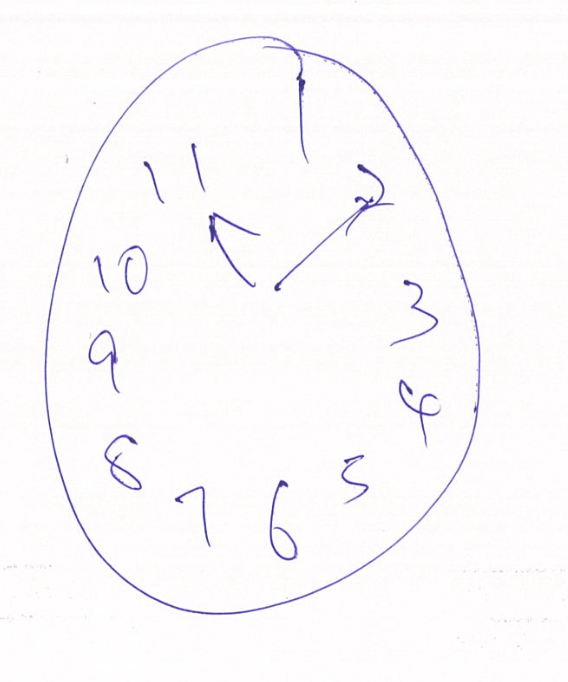1: (290, 72, 317, 167)
10: (91, 244, 152, 299)
11: (141, 139, 206, 209)
2: (352, 161, 398, 213)
3: (387, 277, 442, 349)
4: (394, 379, 442, 451)
5: (338, 452, 373, 508)
6: (261, 475, 301, 567)
7: (173, 483, 216, 552)
8: (100, 433, 145, 494)
9: (82, 327, 128, 400)
contour: (36, 31, 488, 619)
hand: (209, 198, 370, 291)
top_left_arrow: (206, 207, 259, 293)
top_right_arrow: (275, 195, 377, 290)
